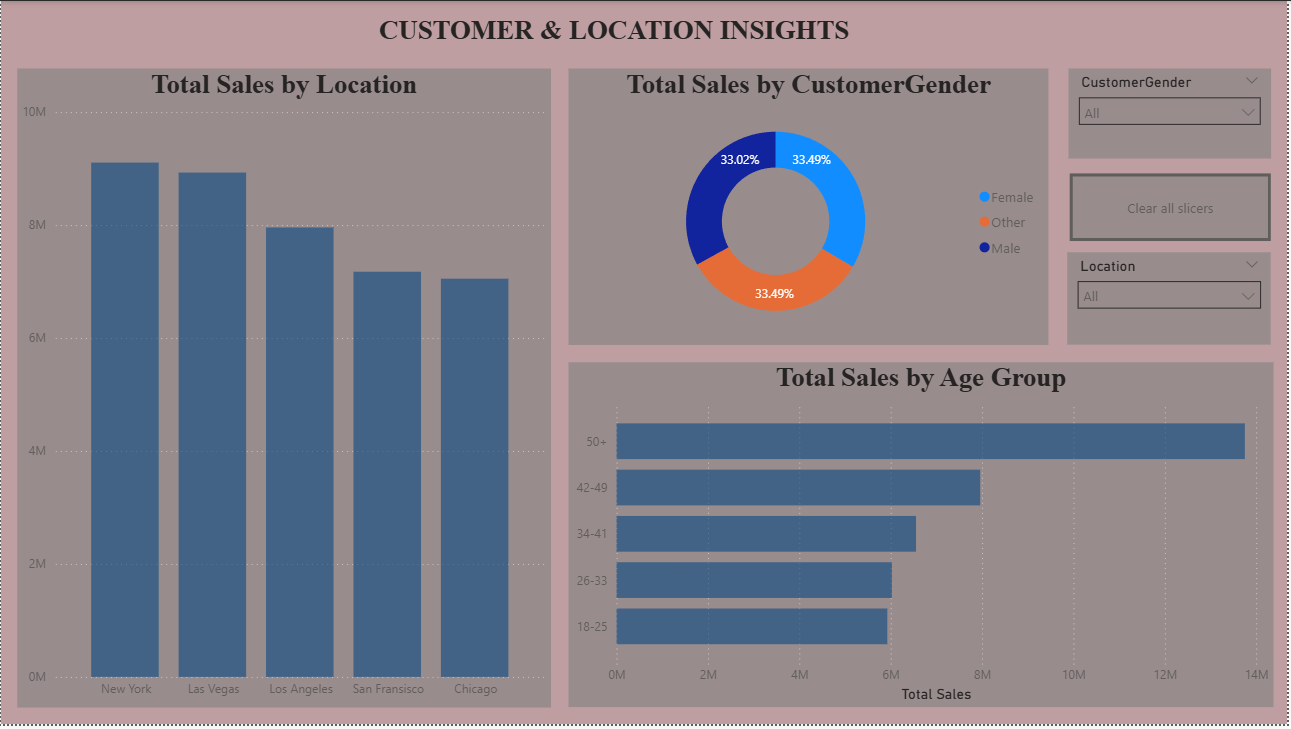

What the dashboard file says about the page in this screenshot:
{"tool":"powerbi","page":{"name":"Page 3","canvas":[1280,720],"ordinal":2},"visuals":[{"type":"textbox","box":[329.6,8.7,561,58.5],"z":0},{"type":"donutChart","fields":{"Category":["mobile_sales.CustomerGender"],"Y":["mobile_sales.Total Sales"]},"box":[564.8,67.2,477.7,274.9],"z":1000},{"type":"columnChart","fields":{"Category":["mobile_sales.Location"],"Y":["mobile_sales.Total Sales"]},"box":[16.2,67.2,531.2,635.7],"z":2000},{"type":"barChart","title":"Total Sales by Age Group","fields":{"Category":["mobile_sales.Age_Group"],"Y":["mobile_sales.Total Sales"]},"box":[564.8,359.5,701.6,343.3],"z":3000},{"type":"slicer","fields":{"Values":["mobile_sales.CustomerGender"]},"box":[1062.3,67.2,201.5,89.6],"z":4000},{"type":"slicer","fields":{"Values":["mobile_sales.Location"]},"box":[1061.1,250,202.8,92.1],"z":5000},{"type":"actionButton","box":[1063.6,171.7,200.3,67.2],"z":6000}]}

Visuals, with their boxes in screenshot pixels (x1, y1, x2, y2), scaled from the page's 1280x720 canvas onto the 1291x729 screenshot:
textbox: x1=332, y1=9, x2=898, y2=68
donutChart - mobile_sales.CustomerGender x mobile_sales.Total Sales: x1=570, y1=68, x2=1051, y2=346
columnChart - mobile_sales.Location x mobile_sales.Total Sales: x1=16, y1=68, x2=552, y2=712
"Total Sales by Age Group" barChart: x1=570, y1=364, x2=1277, y2=712
slicer - mobile_sales.CustomerGender: x1=1071, y1=68, x2=1275, y2=159
slicer - mobile_sales.Location: x1=1070, y1=253, x2=1275, y2=346
actionButton: x1=1073, y1=174, x2=1275, y2=242
